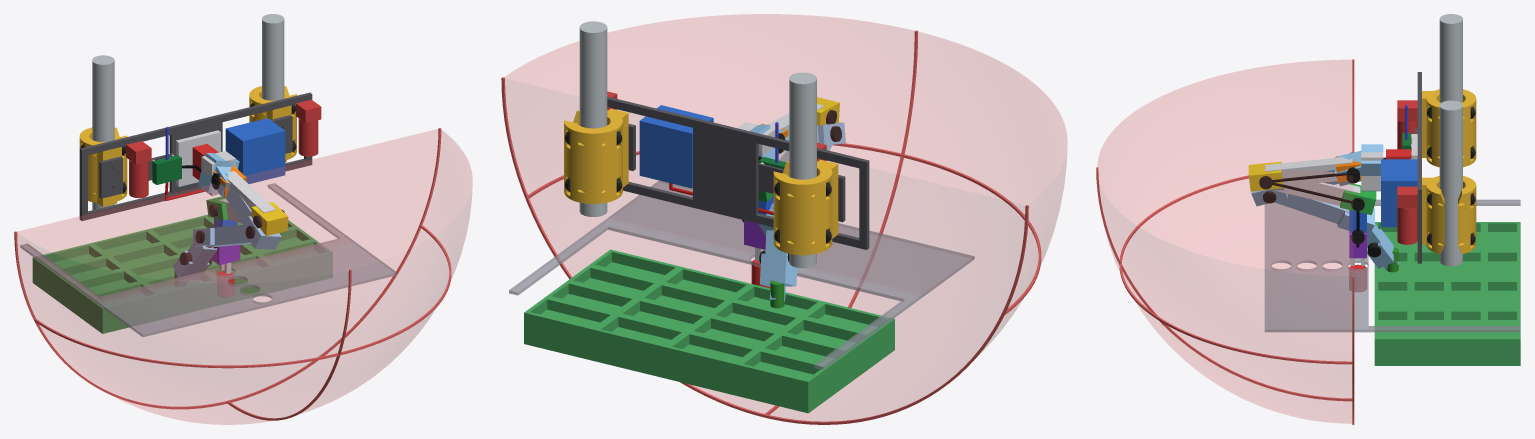
Rendered from cart-arm-v2.glb.
3 views of the same model, side by side, from view 1: azimuth 30°, elevation 25°; view 2: azimuth 150°, elevation 25°; view 3: azimuth 270°, elevation 25° (orthographic). The views are drawn at different scales.
Visible parts, largest first — view 1: reach_envelope, seedling_tray, store_lid_patch, base_plate, battery, drive_motors, reach_ring_across, track_pipe_B, track_pipe_C, reach_ring_on_lid, hand_on_pipe_B_sleeve, arm_pick_D1_base_plate (+13 smaller); view 2: reach_envelope, seedling_tray, store_lid_patch, base_plate, hand_on_pipe_B_sleeve, hand_on_pipe_C_sleeve, battery, track_pipe_C, track_pipe_B, reach_ring_across, reach_ring_on_lid, reach_ring_towards_store (+1 smaller); view 3: reach_envelope, seedling_tray, store_lid_patch, track_pipe_C, hand_on_pipe_C_sleeve, hand_on_pipe_B_sleeve, track_pipe_B, drive_motors, battery, reach_ring_on_lid, arm_pick_D1_upper_arm, reach_ring_towards_store (+11 smaller).
Boxes of the visible parts, x1,y1,x2,y2 form: reach_envelope: (17,129,472,424); seedling_tray: (32,214,332,333); store_lid_patch: (20,183,397,336); base_plate: (79,92,312,220); battery: (225,118,285,183); drive_motors: (126,99,321,198); reach_ring_across: (14,128,441,409); track_pipe_B: (92,55,114,210); track_pipe_C: (262,14,284,100); reach_ring_on_lid: (34,225,451,368); hand_on_pipe_B_sleeve: (79,127,127,206); arm_pick_D1_base_plate: (176,130,220,186); reach_envelope: (504,14,1067,421); seedling_tray: (524,249,894,413); store_lid_patch: (509,180,974,369); base_plate: (607,96,869,249); hand_on_pipe_B_sleeve: (773,159,838,255); hand_on_pipe_C_sleeve: (564,108,628,203); battery: (639,105,713,188); track_pipe_C: (579,21,607,216); track_pipe_B: (789,72,816,268); reach_ring_across: (501,77,1028,424); reach_ring_on_lid: (528,143,1041,315); reach_ring_towards_store: (765,30,918,414); reach_envelope: (1097,60,1352,423); seedling_tray: (1374,222,1520,365); store_lid_patch: (1264,199,1520,332); track_pipe_C: (1439,100,1462,266); hand_on_pipe_C_sleeve: (1422,176,1476,253); hand_on_pipe_B_sleeve: (1422,89,1476,167); track_pipe_B: (1439,14,1462,102); drive_motors: (1397,100,1417,244); battery: (1381,159,1417,227); reach_ring_on_lid: (1119,175,1352,364); arm_pick_D1_upper_arm: (1265,157,1352,185); reach_ring_towards_store: (1096,167,1352,401).
Size of the model in its own units: 703 by 517 by 581.
